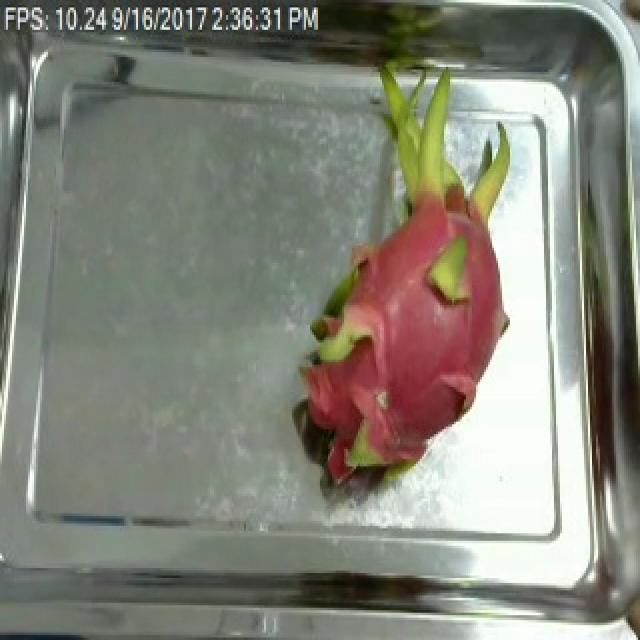fruit: (278, 72, 526, 499)
